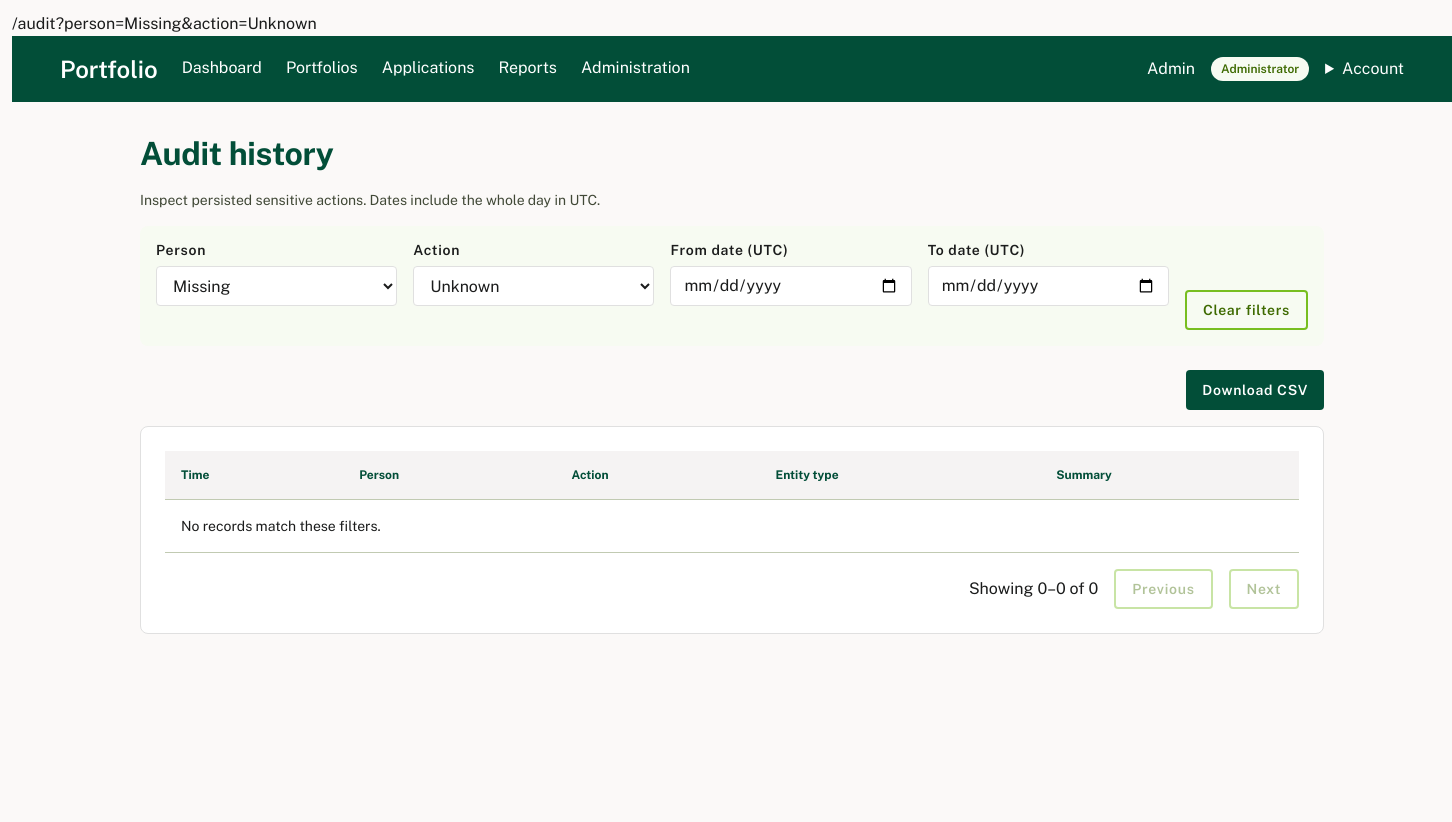
Scenario: keeps unknown URL choices visible and shows empty filtered results
Expected: the text "No records match these filters." is shown, [165,500,1299,552]
Expected: the dropdown labelled "Person" shows "Missing", [156,266,397,306]
Click the button "Clear filters" at (1246,310), box [1185,290,1308,330]
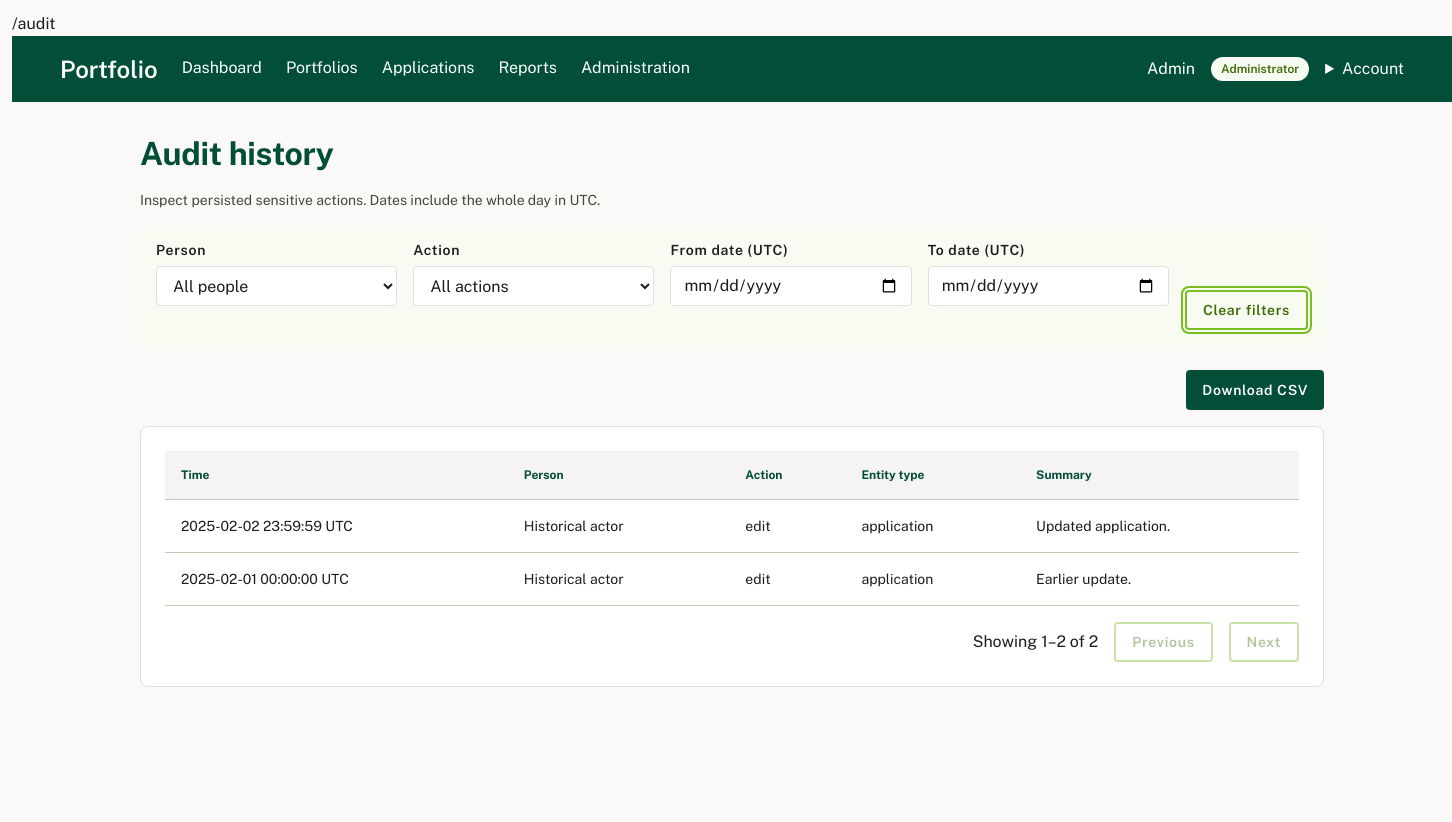
Now the text "Updated application." is shown, box [1020,500,1299,552]
